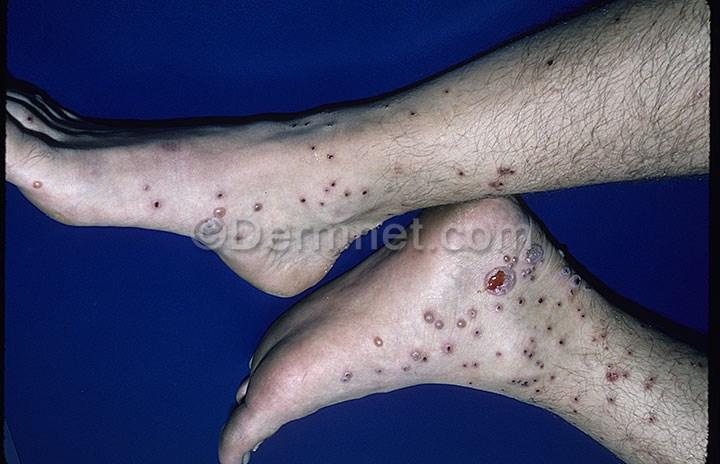Chiggers: (478, 260, 520, 302), (586, 325, 623, 370), (514, 336, 547, 376), (591, 356, 625, 390), (512, 255, 542, 293), (557, 261, 589, 296), (486, 158, 520, 188), (457, 350, 487, 379), (139, 179, 162, 214), (420, 309, 446, 330), (682, 354, 709, 372), (553, 334, 575, 356), (507, 376, 540, 390), (523, 242, 543, 265), (287, 116, 315, 132), (538, 55, 557, 78), (641, 406, 659, 430), (161, 140, 181, 158), (410, 346, 429, 364), (641, 374, 657, 394), (324, 174, 338, 196), (461, 305, 478, 321), (212, 206, 227, 222), (544, 370, 556, 390), (576, 304, 587, 325), (308, 142, 323, 157), (514, 294, 528, 310), (501, 253, 518, 266), (569, 394, 580, 414), (299, 196, 317, 208), (381, 100, 395, 115), (370, 365, 389, 376), (372, 335, 386, 348), (468, 324, 481, 338), (249, 200, 263, 213), (30, 176, 44, 189), (340, 370, 352, 385), (441, 85, 456, 97), (214, 190, 227, 203), (441, 341, 453, 355), (541, 321, 553, 334), (494, 348, 505, 362), (342, 188, 353, 202), (605, 392, 616, 406), (322, 121, 335, 132), (491, 303, 501, 317), (399, 364, 413, 372), (407, 110, 417, 121), (535, 295, 545, 305), (554, 298, 563, 309), (455, 168, 464, 179), (361, 188, 373, 196), (325, 150, 333, 160)
